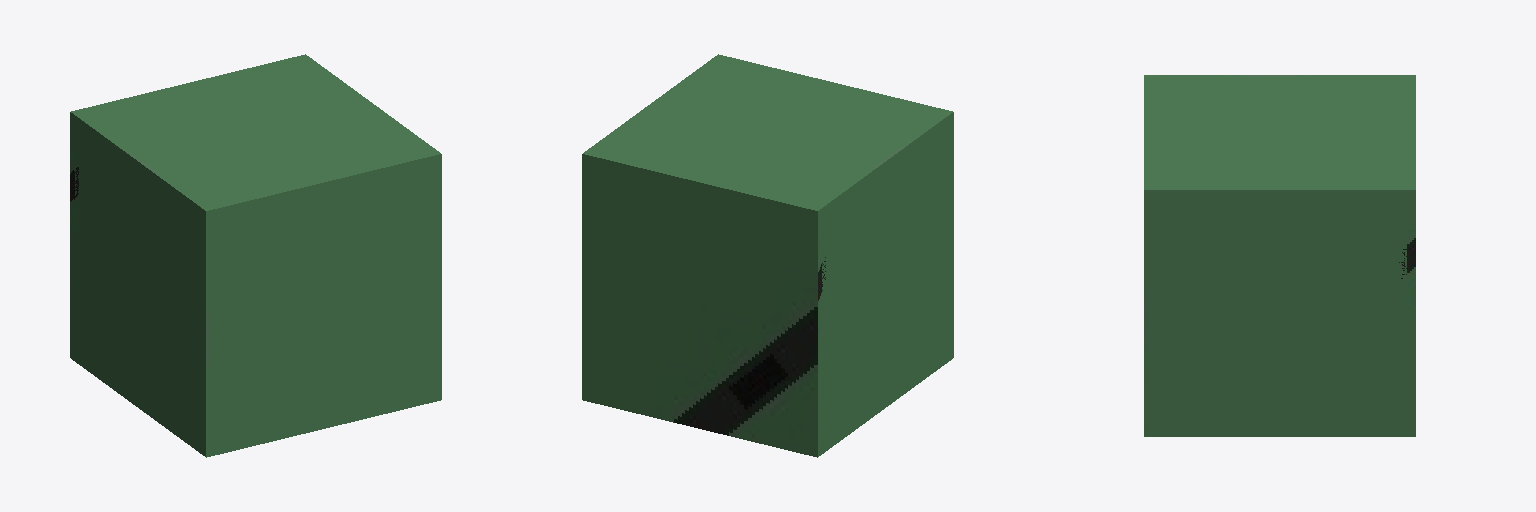
3 renders of one model, left to right at view 1: azimuth 30°, elevation 25°; view 2: azimuth 150°, elevation 25°; view 3: azimuth 270°, elevation 25°, orthographic.
Visible parts, largest first — view 1: generalCube, off; view 2: generalCube, off; view 3: generalCube, off.
Boxes of the visible parts, box(x1,y1,x2,y2) form: generalCube: box(75, 57, 441, 457); off: box(70, 54, 310, 363); generalCube: box(589, 54, 953, 453); off: box(582, 148, 825, 457); generalCube: box(1144, 75, 1406, 436); off: box(1399, 75, 1415, 436).
Bounding box in the file's own units: 1 × 1 × 1.
Materials: 1 (1 with a texture image).